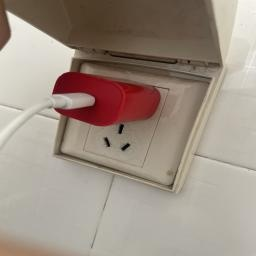outlet: (33, 46, 224, 201)
